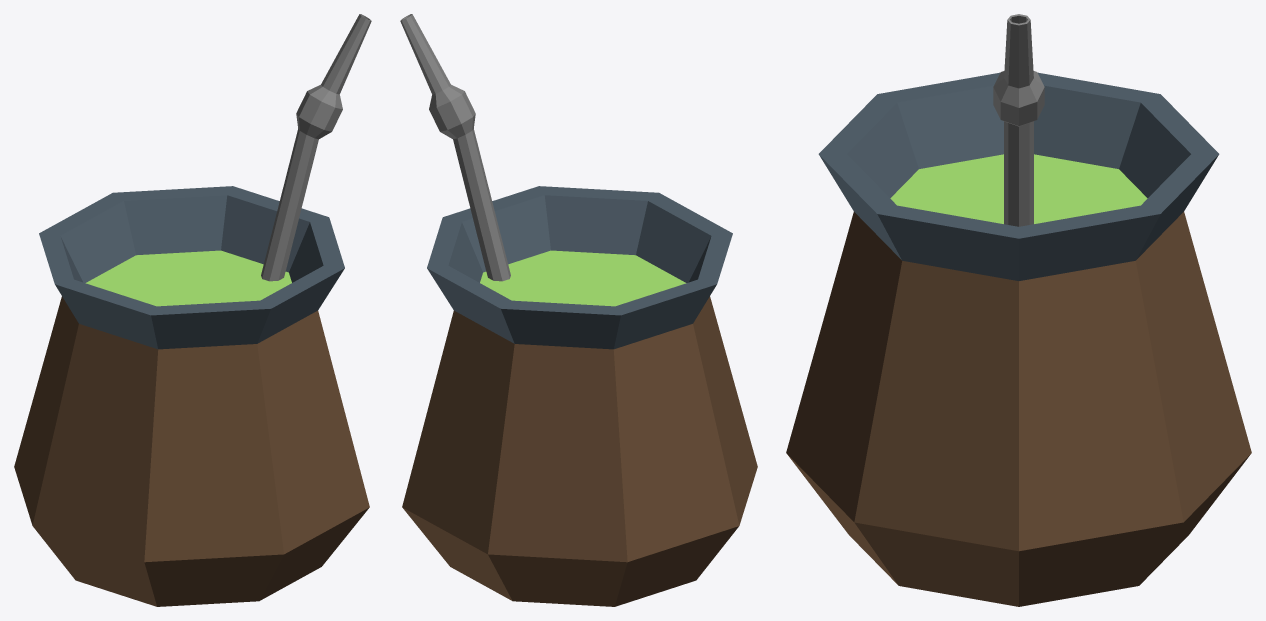
The model's file is argentina_mate.glb.
The picture shows the model from 3 angles, left to right: view 1: azimuth 30°, elevation 25°; view 2: azimuth 150°, elevation 25°; view 3: azimuth 270°, elevation 25°; orthographic projection. The views are drawn at different scales.
Parts seen in each view (by area): view 1: Mate, Yerba, Bombilla; view 2: Mate, Yerba, Bombilla; view 3: Mate, Yerba, Bombilla.
Boxes of the visible parts, x1,y1,x2,y2 form: Mate: (14,186,369,606); Yerba: (85,250,291,306); Bombilla: (261,14,371,281); Mate: (402,186,757,606); Yerba: (480,250,686,306); Bombilla: (400,14,510,281); Mate: (786,72,1251,606); Yerba: (890,154,1147,223); Bombilla: (993,14,1044,226).
Bounding box in the file's own units: 2.18 × 3.2 × 2.06.
